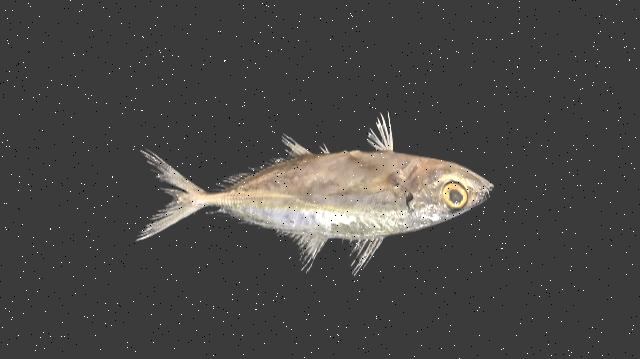Mulut: (470, 167, 498, 214)
Sirip Anal: (202, 124, 310, 194)
Sirip Dada: (332, 166, 402, 204)
Sirip Ekor: (126, 140, 212, 268)
Sirip Perut: (358, 112, 400, 158)
Sirip Punggung: (262, 214, 396, 290)
